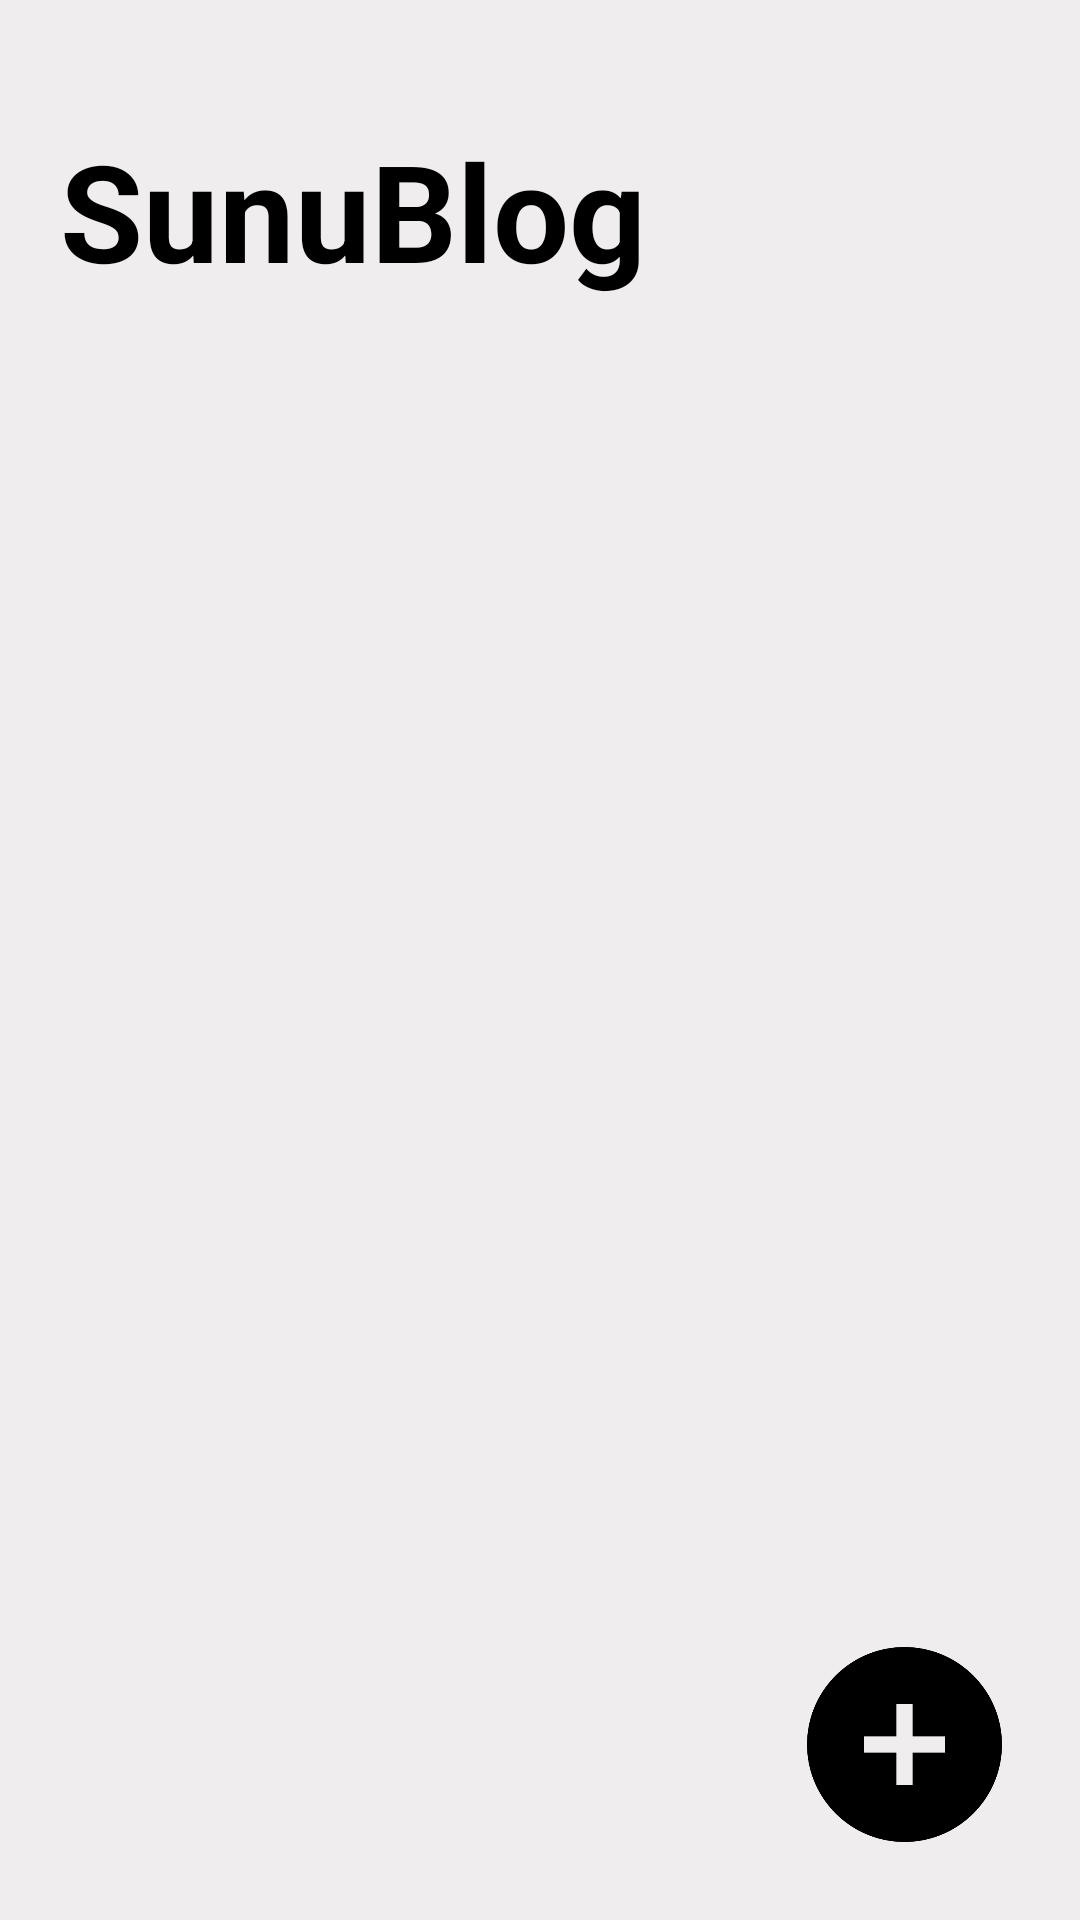

Where icons sit on this 1080*1920 app screen, as (x1, y1, x2, y2):
ajouter: (807, 1647, 1002, 1842)
